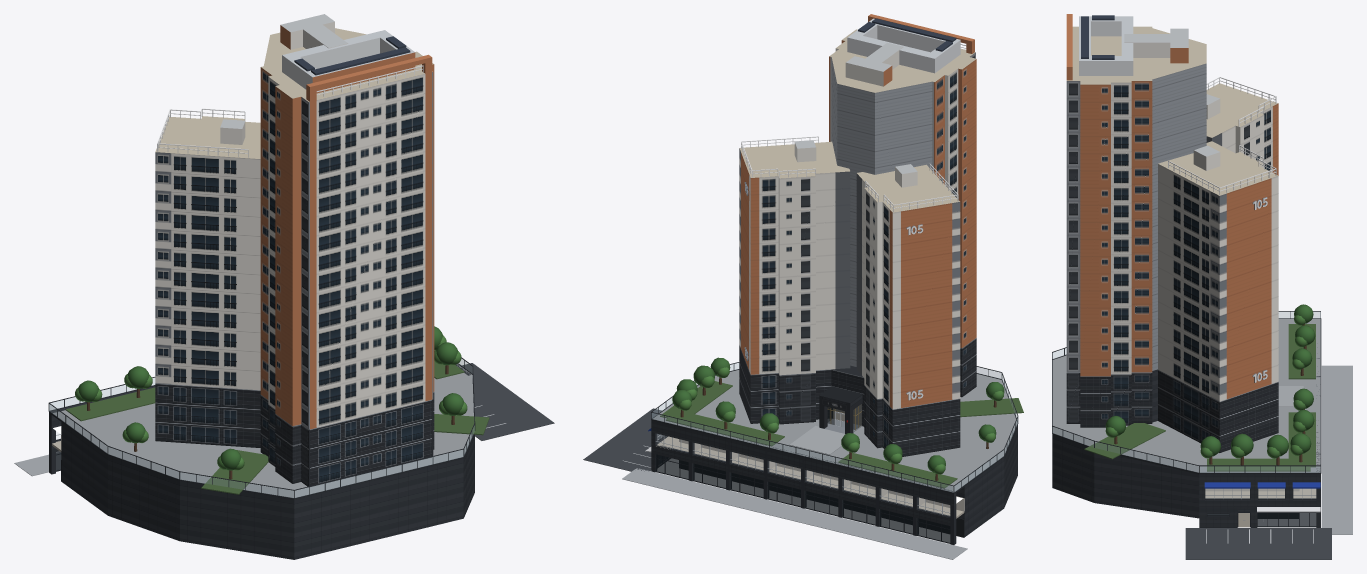
The model's file is place_금파힐105.glb.
3 renders of one model, left to right at view 1: azimuth 30°, elevation 25°; view 2: azimuth 150°, elevation 25°; view 3: azimuth 270°, elevation 25°, orthographic. The views are drawn at different scales.
Parts seen in each view (by area): view 1: Wing_South_20F, KumhoParkHills_105_With_Retail_v3, Wing_NW_15F; view 2: KumhoParkHills_105_With_Retail_v3, Wing_NE_15F, Wing_NW_15F, Wing_South_20F; view 3: KumhoParkHills_105_With_Retail_v3, Wing_South_20F, Wing_NE_15F, Wing_NW_15F.
Boxes of the visible parts, x1,y1,x2,y2 form: Wing_South_20F: (260,14,434,486); KumhoParkHills_105_With_Retail_v3: (14,28,554,559); Wing_NW_15F: (155,108,260,447); KumhoParkHills_105_With_Retail_v3: (583,57,1023,559); Wing_NE_15F: (739,136,850,424); Wing_NW_15F: (856,164,960,456); Wing_South_20F: (829,14,976,397); KumhoParkHills_105_With_Retail_v3: (1052,28,1352,559); Wing_South_20F: (1066,14,1188,427); Wing_NE_15F: (1158,141,1278,452); Wing_NW_15F: (1206,77,1278,175).
Size of the model in its own units: 64.25 by 64.02 by 42.15.
Materials: 184 (62 with a texture image).
